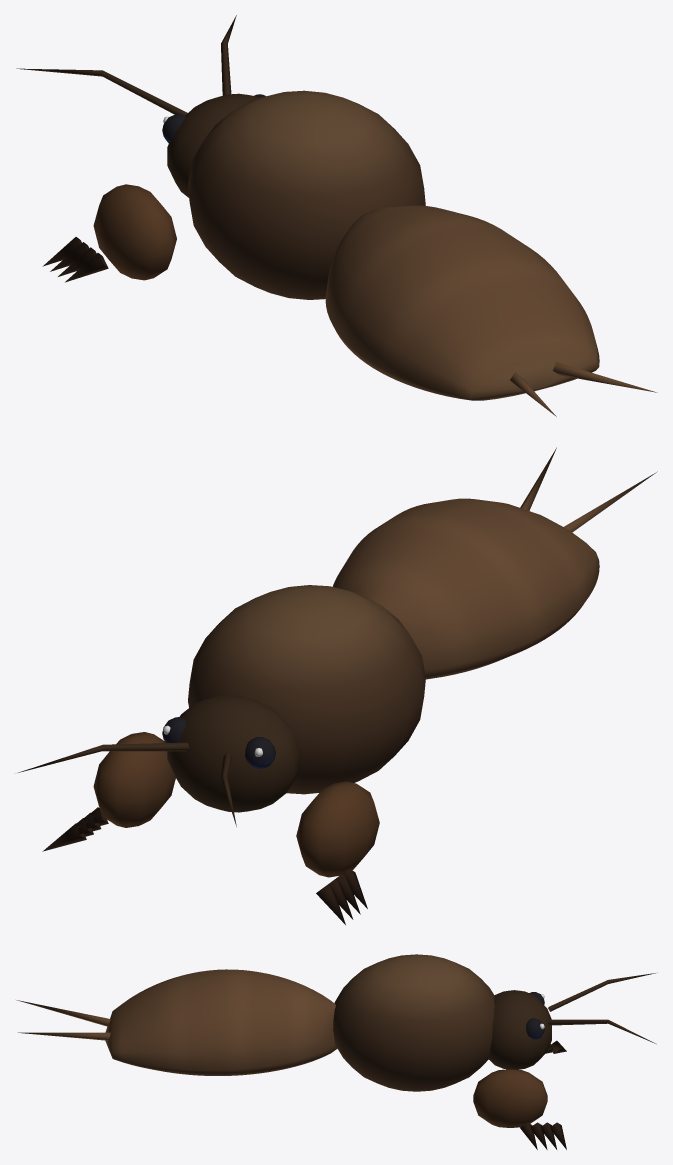
The model's file is Okera.fbx.
3 renders of one model, top to bottom at view 1: azimuth 30°, elevation 25°; view 2: azimuth 150°, elevation 25°; view 3: azimuth 270°, elevation 25°, orthographic. The views are drawn at different scales.
Visible parts, largest first — view 1: Okera; view 2: Okera; view 3: Okera.
Boxes of the visible parts, <box> form: Okera: <box>16,15,656,416</box>; Okera: <box>18,447,657,924</box>; Okera: <box>16,954,657,1149</box>.
Size of the model in its own units: 0.6 by 0.39 by 1.65.
